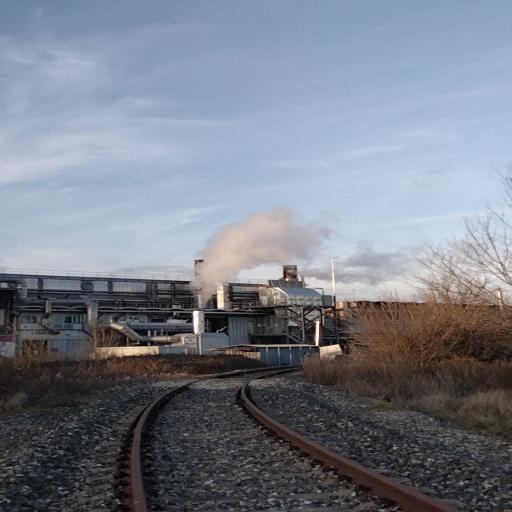leakage: (182, 204, 447, 315)
